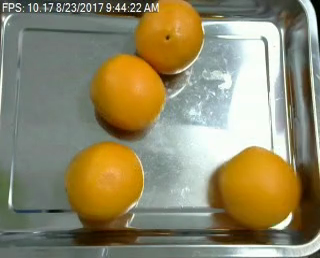Orange: (215, 146, 301, 227), (64, 141, 144, 221), (88, 52, 165, 131), (133, 1, 203, 76)
